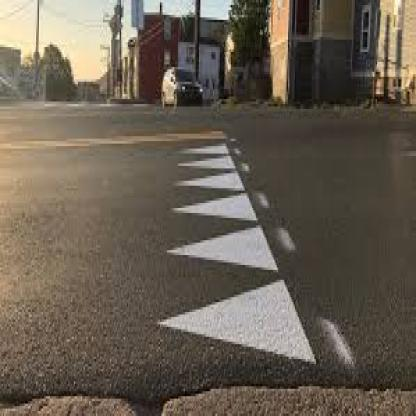car: (156, 60, 207, 118)
